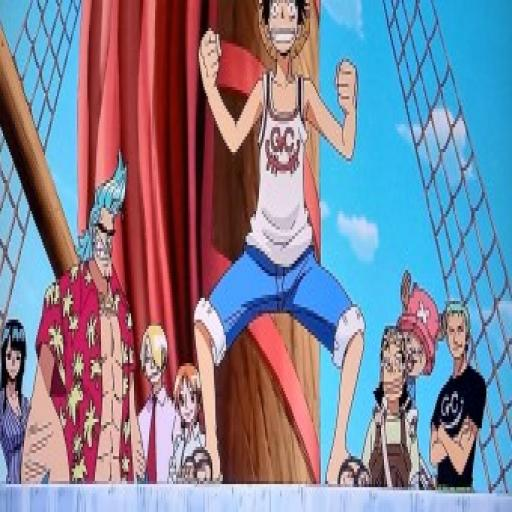Luffy: (251, 0, 316, 70)
Nami: (170, 354, 203, 437)
NicoRobin: (0, 316, 29, 396)
Usopp: (378, 323, 406, 414)
Zoro: (442, 295, 474, 363)
sanji: (140, 310, 175, 394)
